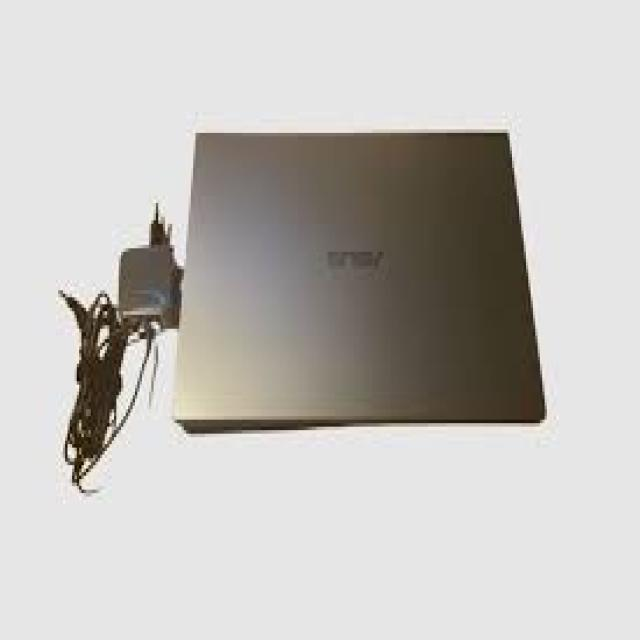laptop: (170, 122, 547, 430)
